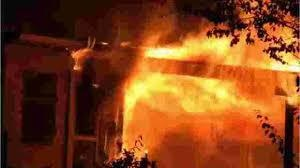fire: (118, 19, 298, 158)
